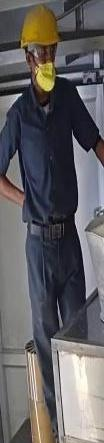hard-hat: (13, 4, 71, 48)
